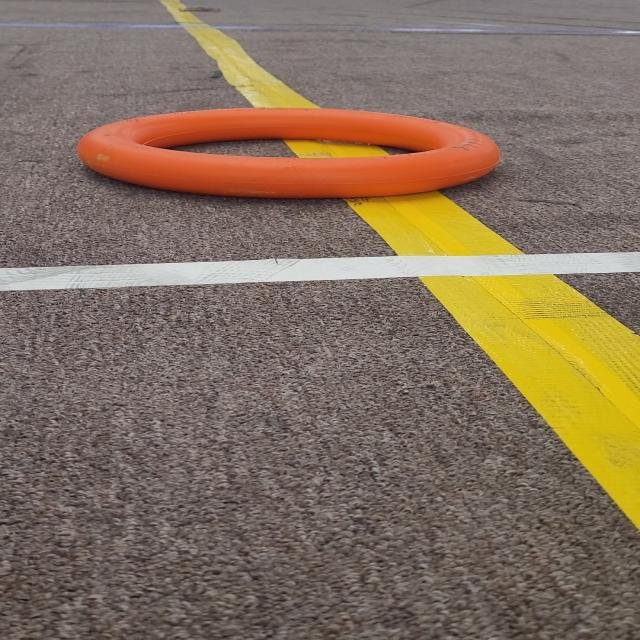note: (67, 93, 524, 211)
